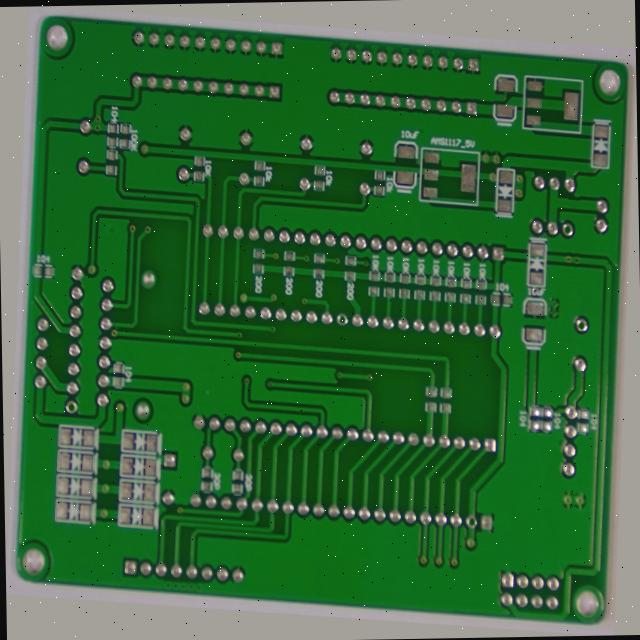missing_hole: (482, 515, 497, 533), (585, 290, 600, 307), (56, 428, 70, 445), (335, 307, 348, 325), (567, 188, 579, 206)
